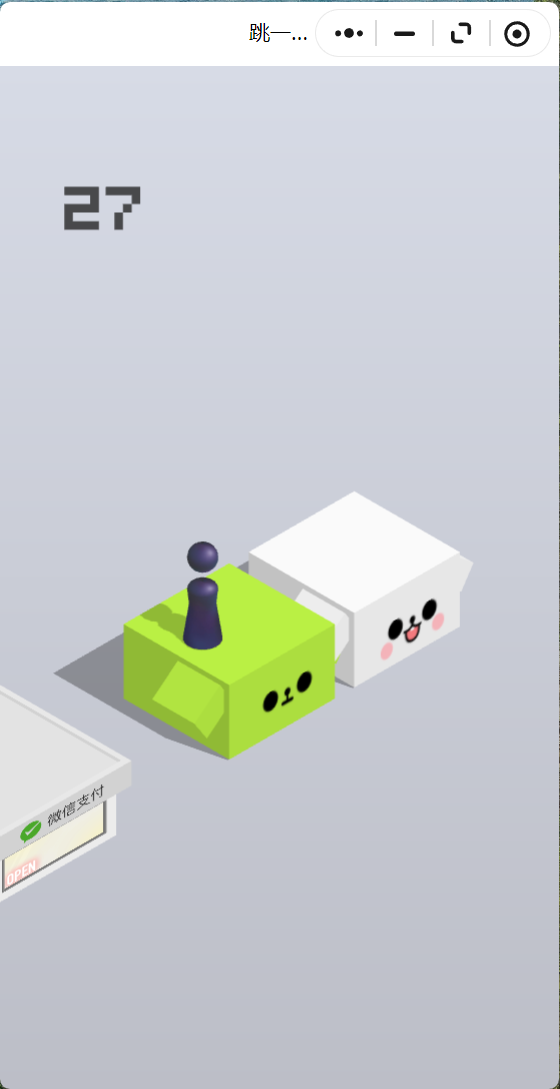piece: (187, 542, 218, 649)
target: (250, 491, 460, 611)
